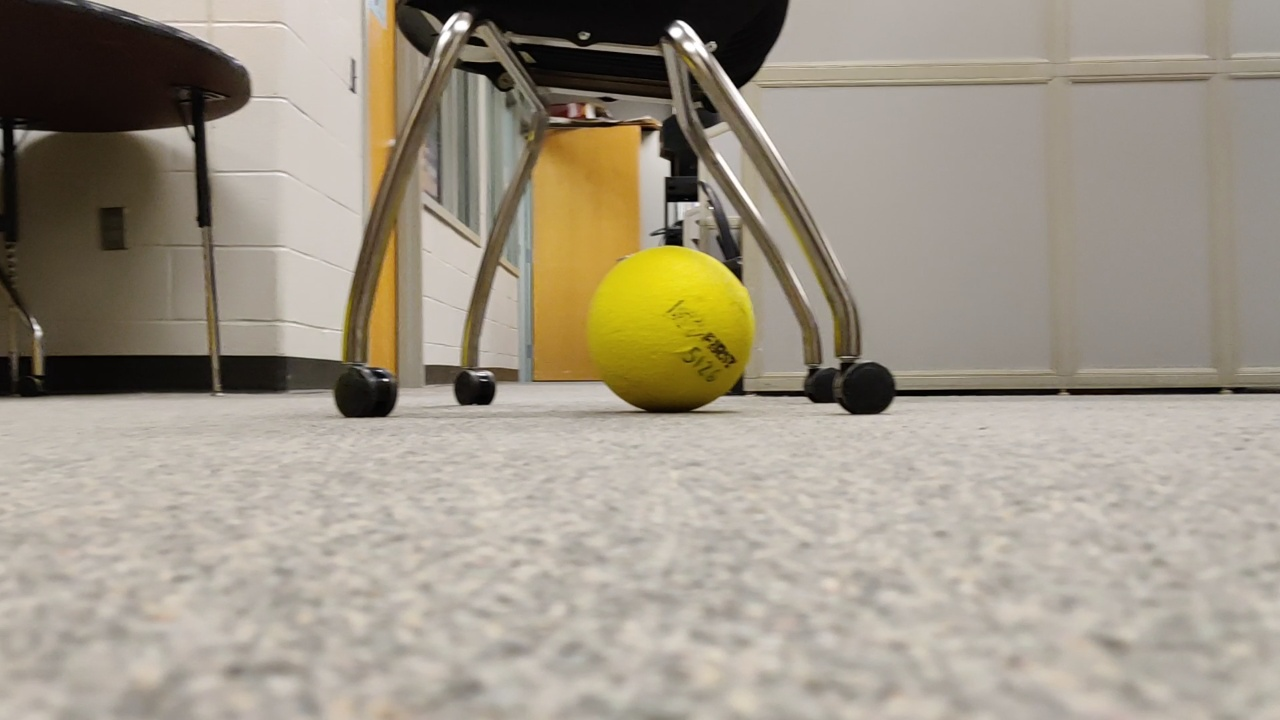Ball: (587, 250, 755, 412)
